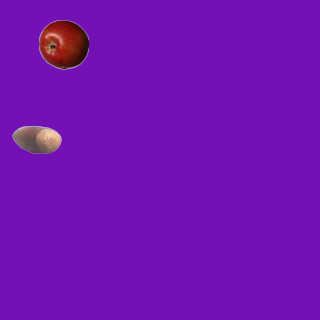Apple Braeburn: (38, 19, 88, 69)
Hazelnut: (11, 114, 61, 164)
